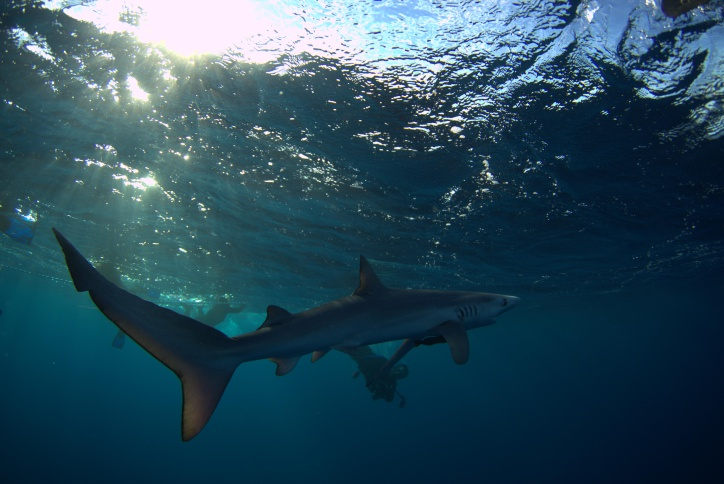Azul: (35, 202, 524, 448)
